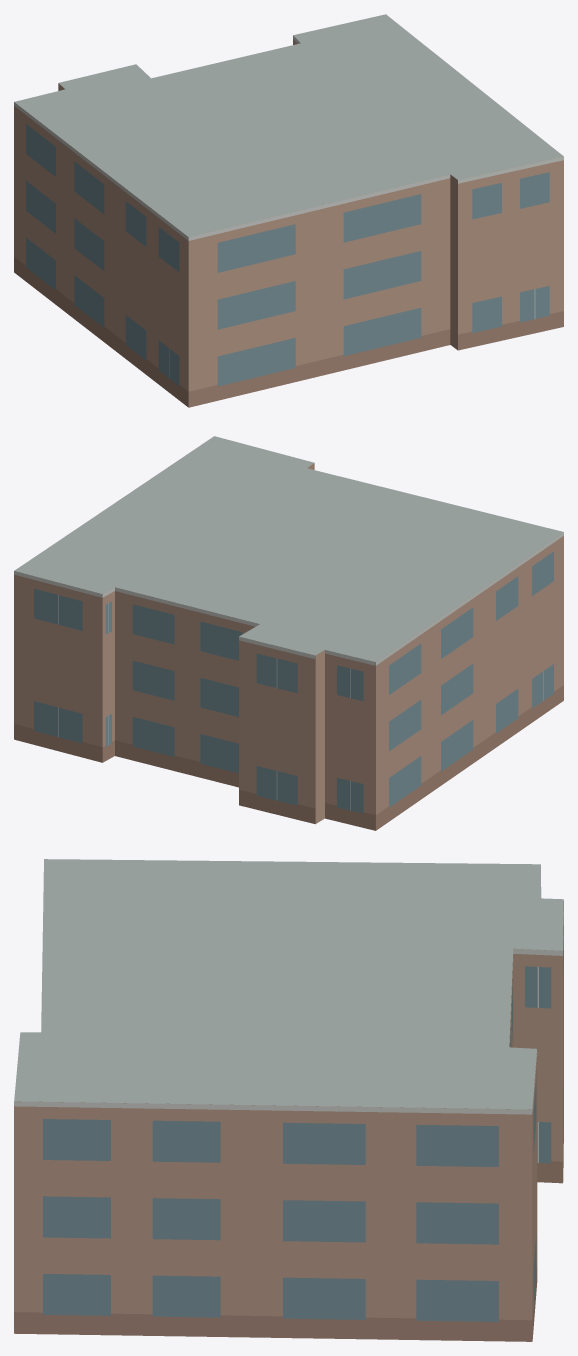
The model's file is survey-upis-32859468.glb.
3 views of the same model, one above another, from view 1: azimuth 30°, elevation 25°; view 2: azimuth 150°, elevation 25°; view 3: azimuth 270°, elevation 25° (orthographic). The views are drawn at different scales.
Parts seen in each view (by area): view 1: survey-upis-32859468.tmp; view 2: survey-upis-32859468.tmp; view 3: survey-upis-32859468.tmp.
Part boxes in pixels (left/top/right/bottom): survey-upis-32859468.tmp: left=14, top=14, right=563, bottom=407; survey-upis-32859468.tmp: left=14, top=436, right=563, bottom=830; survey-upis-32859468.tmp: left=14, top=859, right=563, bottom=1341.
Bounding box in the file's own units: 25.66 × 11.1 × 23.81.
